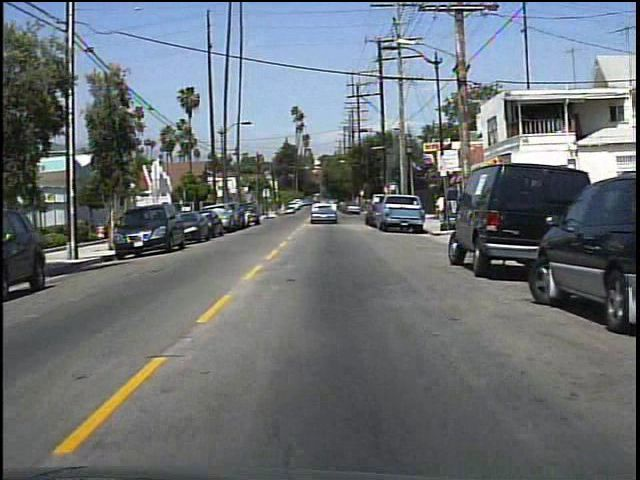person: (432, 194, 450, 226)
